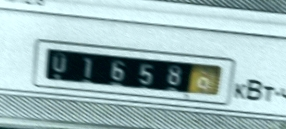0: (50, 49, 68, 71)
1: (79, 52, 95, 77)
5: (137, 59, 155, 84)
6: (108, 56, 128, 81)
8: (165, 61, 184, 85)
9: (193, 72, 211, 94)
screen: (29, 33, 239, 108)
